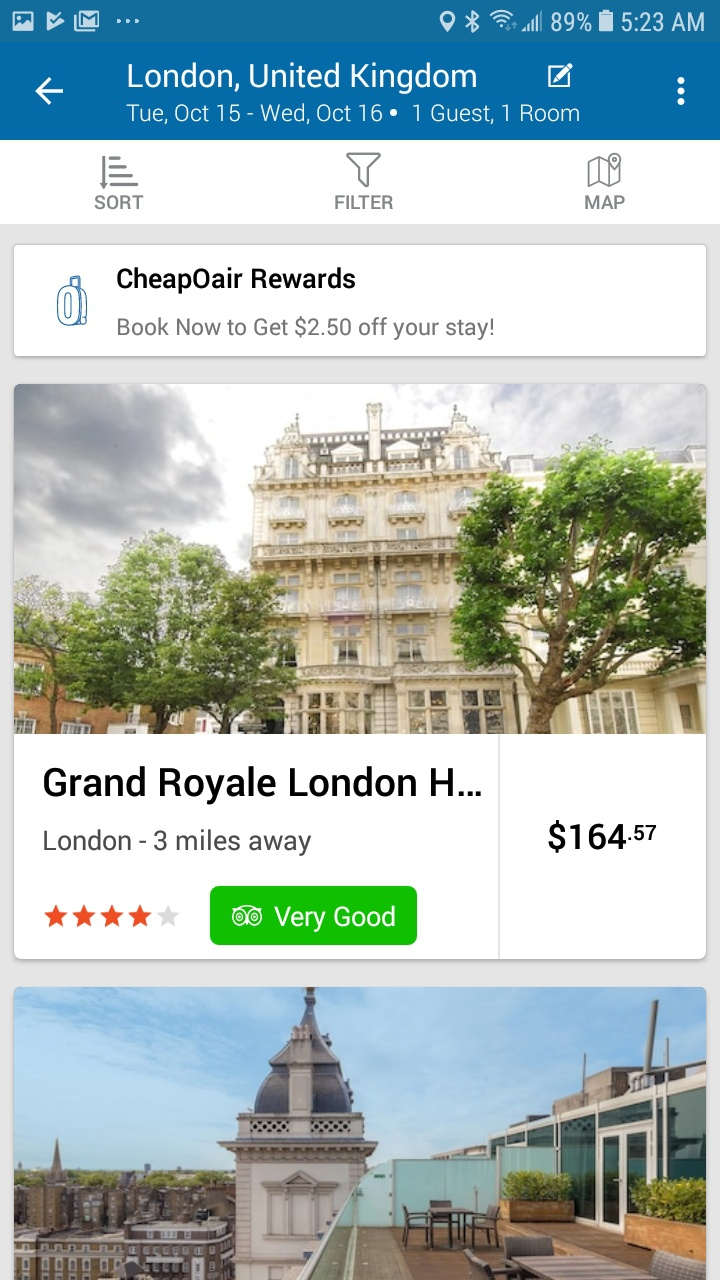Icon: (45, 905, 180, 928), (100, 156, 140, 190), (588, 153, 622, 188), (35, 77, 64, 107), (548, 63, 574, 89), (676, 73, 686, 105)
Image: (15, 385, 707, 735), (14, 987, 706, 1280), (57, 275, 88, 327), (346, 152, 382, 188)
Text: (45, 766, 482, 805), (128, 62, 477, 96), (126, 104, 580, 126), (118, 316, 494, 341), (44, 829, 312, 857), (117, 267, 356, 295), (548, 820, 657, 854), (335, 195, 394, 210), (94, 195, 144, 211), (584, 195, 625, 210)
TextButton: (210, 886, 418, 946)
UpperTaskBar: (1, 1, 720, 43)
